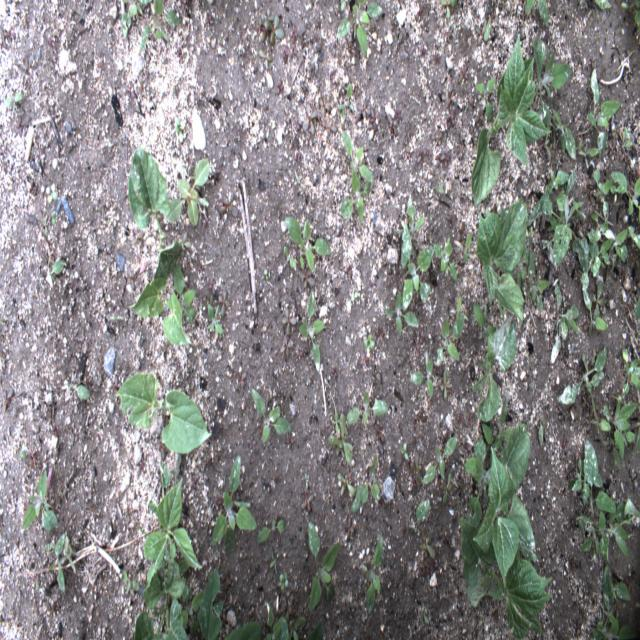crop: (459, 392, 554, 638), (469, 31, 577, 204), (129, 472, 224, 636), (112, 369, 214, 455), (122, 147, 211, 240), (128, 232, 197, 348), (474, 199, 534, 328), (472, 304, 521, 426)
weed: (570, 436, 638, 558), (532, 165, 590, 278), (208, 451, 258, 561), (223, 599, 330, 638), (306, 513, 346, 616), (579, 59, 621, 157), (281, 210, 331, 292), (587, 202, 638, 275), (338, 131, 376, 225), (334, 0, 386, 68), (117, 0, 184, 51), (20, 533, 74, 594), (247, 378, 292, 448), (593, 565, 637, 636), (557, 348, 607, 410), (546, 279, 578, 375), (592, 398, 638, 462), (294, 298, 328, 378), (18, 467, 58, 534), (358, 531, 384, 621), (407, 350, 452, 400), (402, 240, 436, 306), (420, 436, 460, 490), (383, 285, 420, 343), (400, 192, 427, 271), (592, 168, 638, 214), (349, 451, 381, 516), (325, 409, 359, 470), (346, 388, 390, 433), (580, 276, 610, 340), (441, 290, 464, 366), (1, 82, 31, 140), (257, 8, 282, 74), (273, 308, 298, 366), (252, 506, 289, 545), (431, 233, 459, 284), (207, 288, 231, 344), (474, 70, 496, 124), (554, 109, 576, 161), (620, 337, 638, 398), (336, 82, 357, 133), (314, 94, 338, 138), (64, 376, 98, 407), (442, 82, 462, 134), (526, 272, 548, 318), (406, 496, 432, 534), (214, 190, 241, 225), (359, 96, 382, 137), (452, 230, 472, 277), (300, 466, 317, 516), (40, 206, 60, 248), (118, 568, 142, 602), (416, 533, 436, 572), (475, 9, 495, 48), (17, 441, 44, 469), (523, 1, 549, 30), (121, 258, 141, 295), (43, 258, 66, 290), (282, 19, 298, 64), (362, 326, 381, 363), (230, 361, 248, 400), (335, 467, 357, 498), (302, 101, 320, 137), (150, 424, 166, 464), (405, 138, 425, 170), (440, 468, 456, 506), (576, 146, 594, 178), (618, 1, 638, 27), (535, 411, 548, 451), (171, 113, 189, 141), (20, 51, 36, 81), (286, 131, 302, 161), (134, 70, 151, 98), (455, 63, 472, 91), (387, 110, 400, 146), (438, 0, 459, 22), (110, 303, 127, 330), (619, 122, 632, 156), (372, 423, 387, 452), (433, 145, 452, 167), (272, 73, 290, 95), (278, 564, 290, 596), (347, 284, 363, 306), (411, 37, 427, 59), (433, 177, 446, 202), (158, 465, 170, 492), (270, 550, 281, 578), (400, 437, 411, 464), (131, 230, 145, 251), (592, 0, 614, 13), (342, 258, 354, 278), (430, 45, 442, 65), (632, 293, 638, 333), (259, 265, 273, 281), (173, 44, 184, 61)
